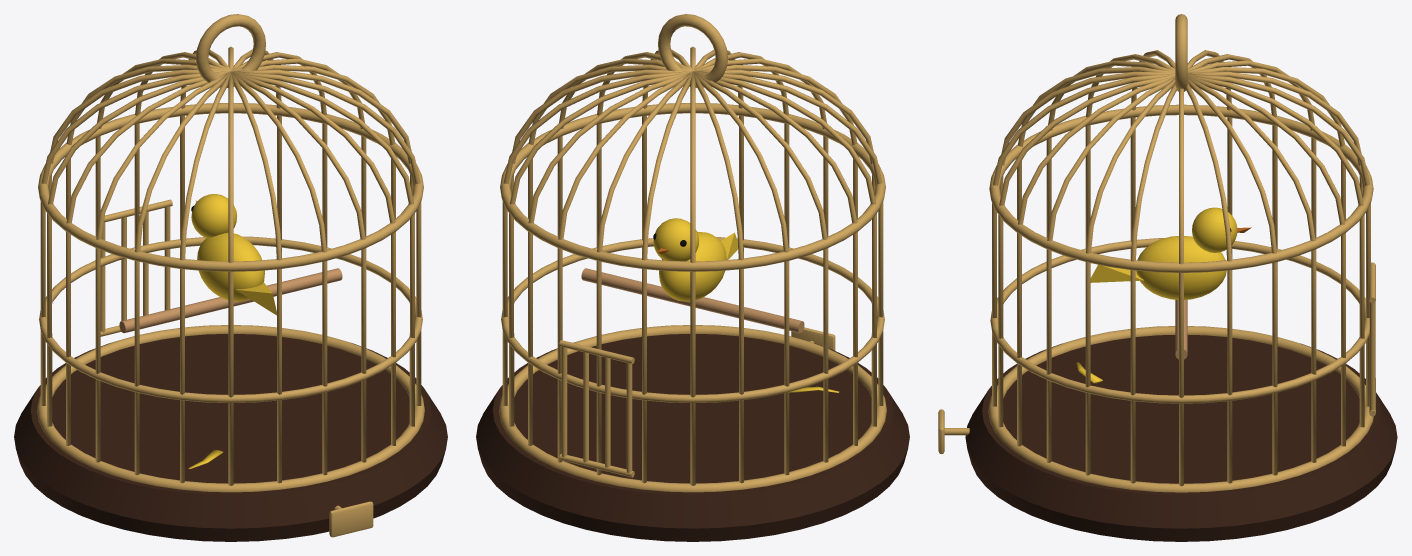
The model's file is birdcage.fbx.
The picture shows the model from 3 angles, left to right: view 1: azimuth 30°, elevation 25°; view 2: azimuth 150°, elevation 25°; view 3: azimuth 270°, elevation 25°; orthographic projection.
Parts seen in each view (by area): view 1: birdcage, Door, Key; view 2: birdcage, Door; view 3: birdcage, Door.
Boxes of the visible parts, <box> form: birdcage: <box>14,14,447,541</box>; Door: <box>100,199,172,336</box>; Key: <box>329,501,373,537</box>; birdcage: <box>476,14,909,541</box>; Door: <box>559,340,634,477</box>; birdcage: <box>965,14,1397,541</box>; Door: <box>1369,262,1375,416</box>.
Size of the model in its own units: 0.208 by 0.2314 by 0.221.
